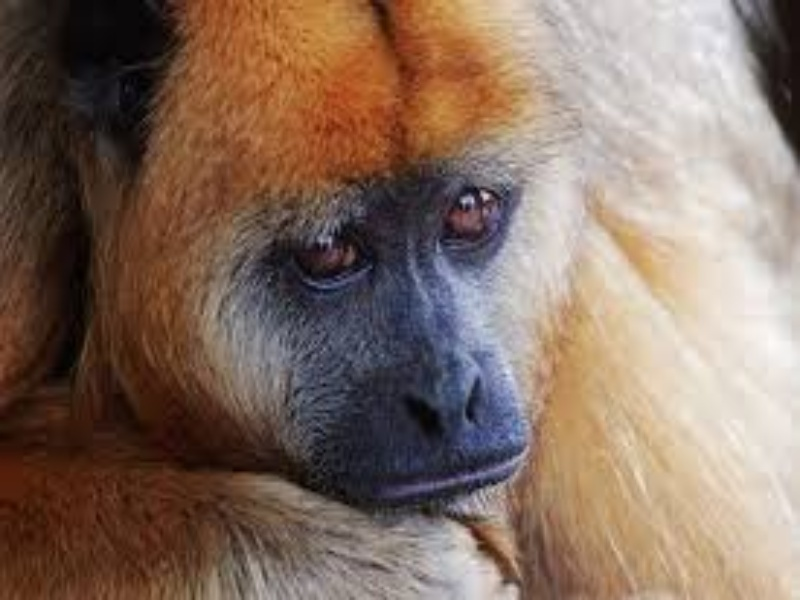monkey: (20, 1, 792, 600)
